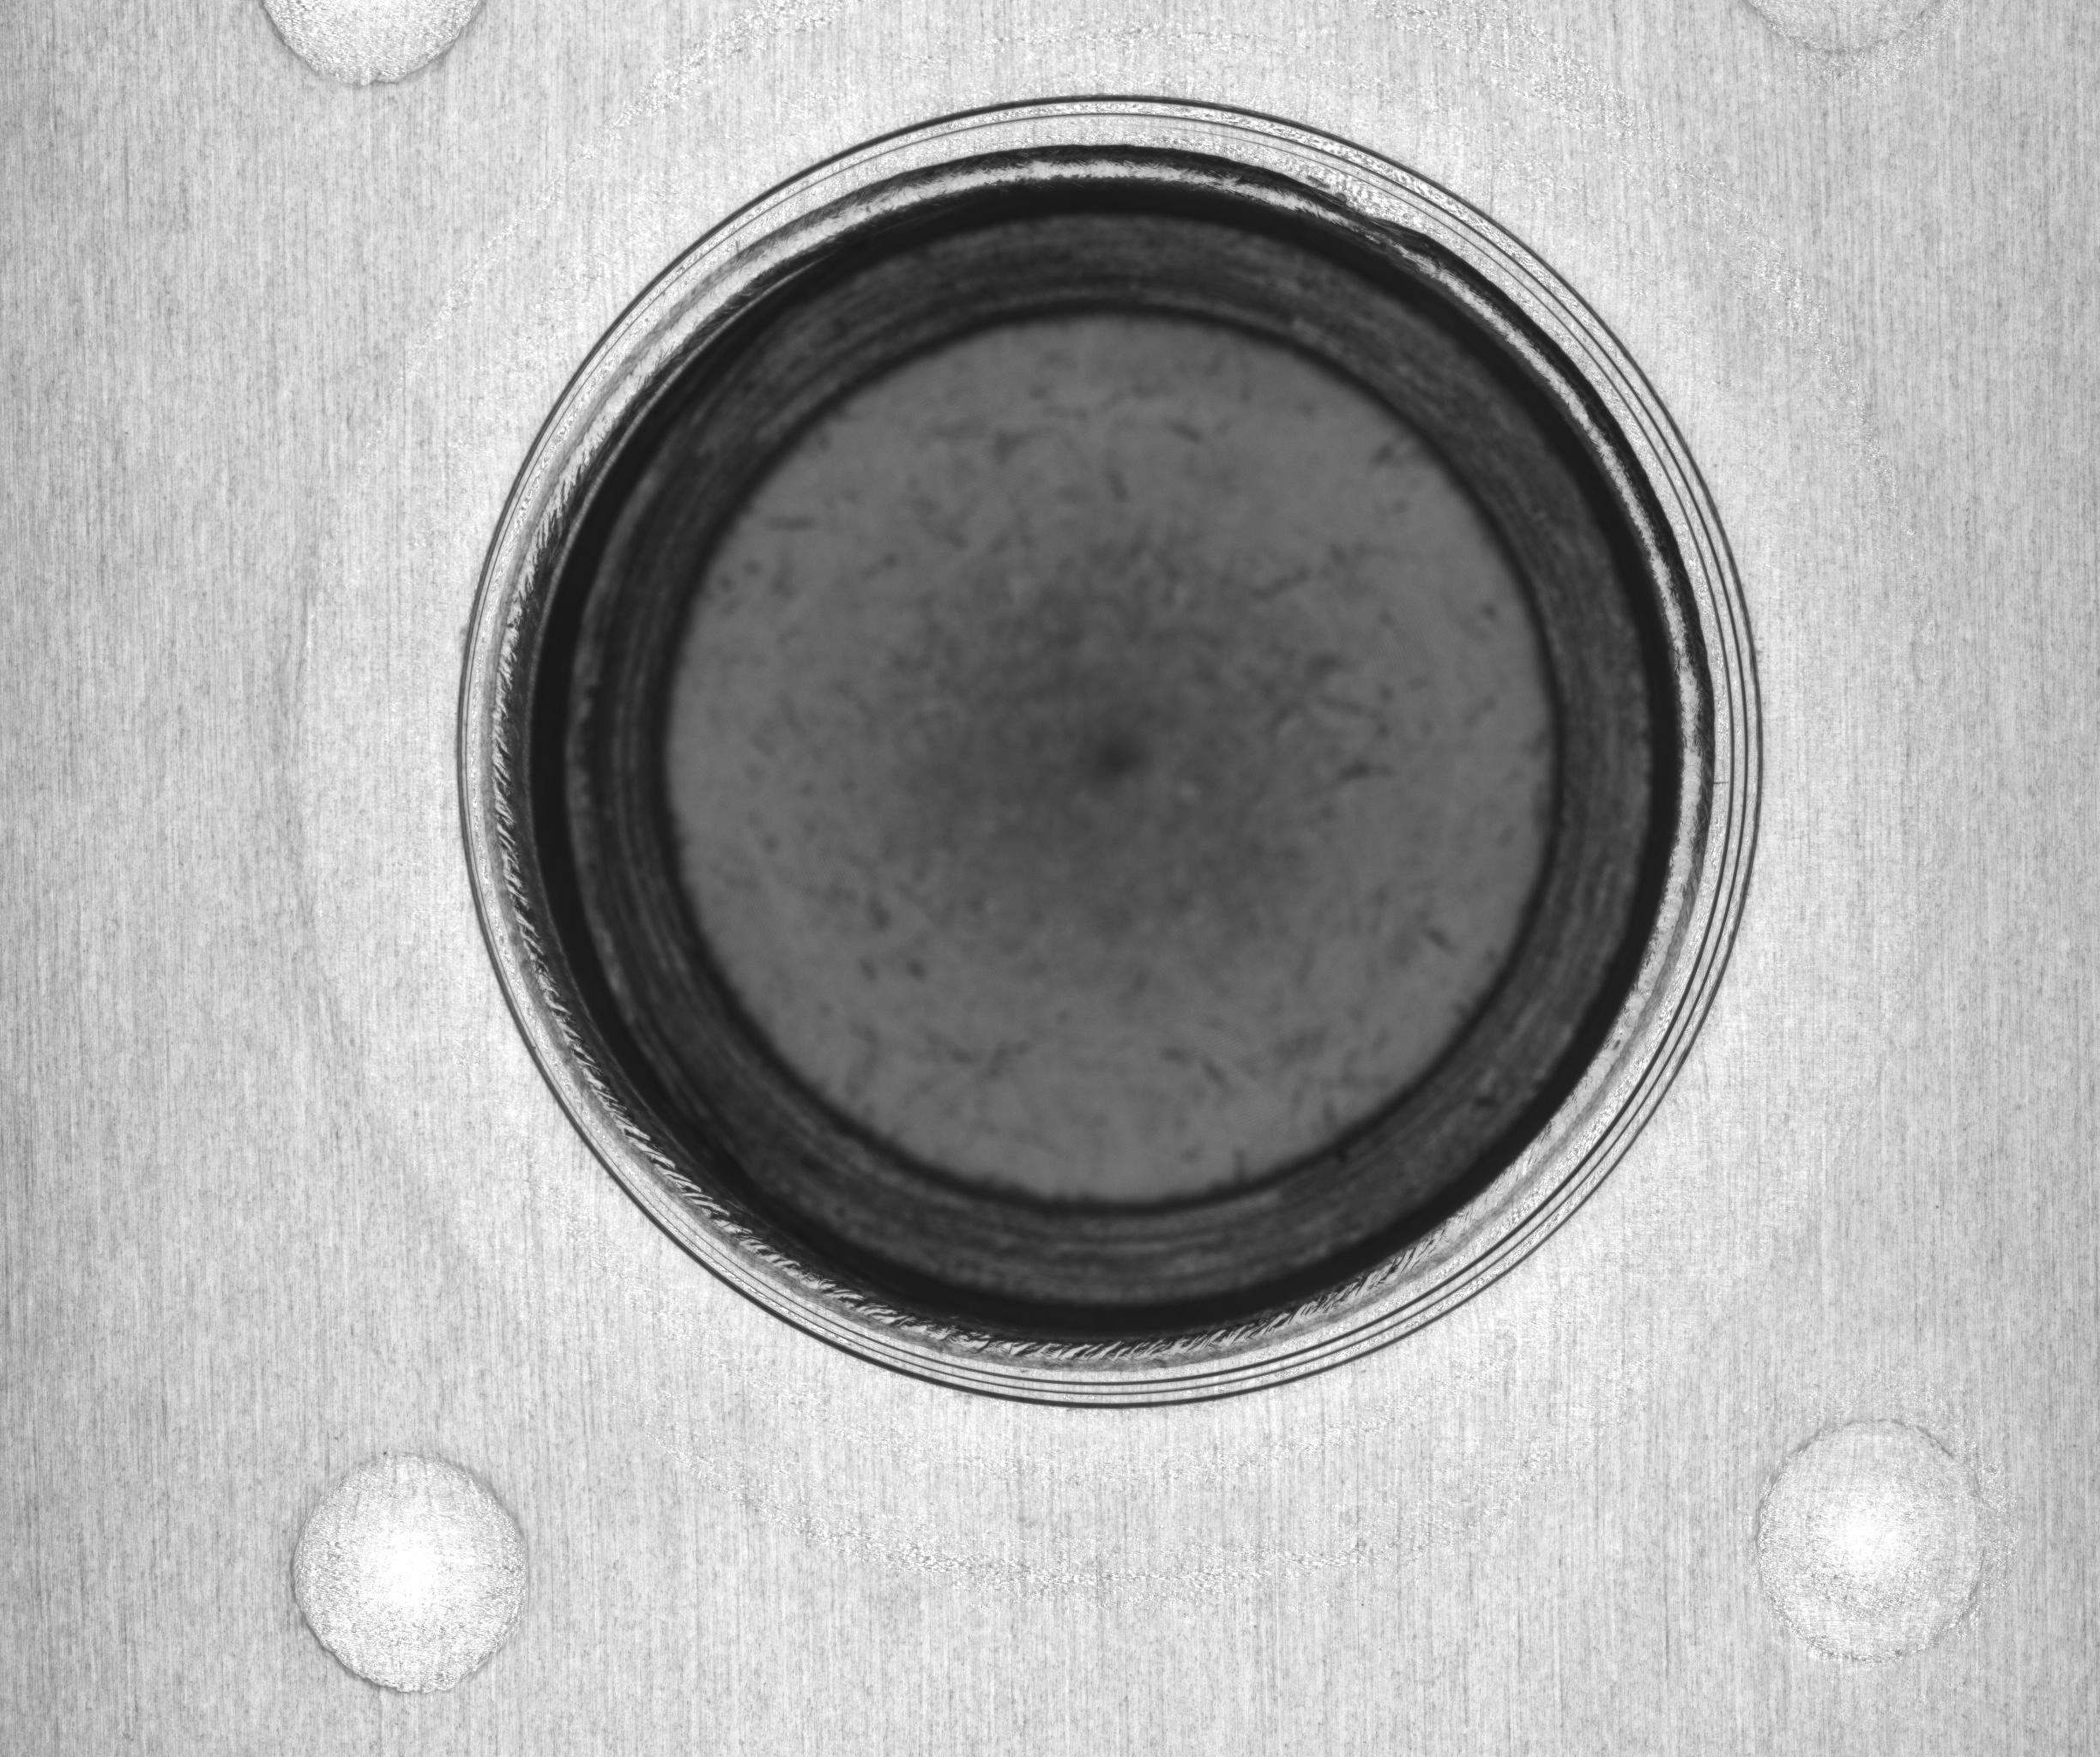coveriswrong: (488, 161, 1683, 1354)
